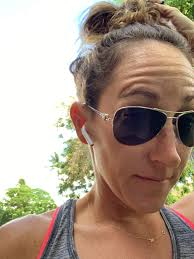earphone: (70, 102, 99, 148)
